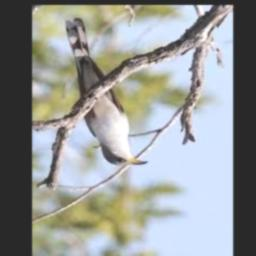Cuckoo: (65, 18, 148, 166)
